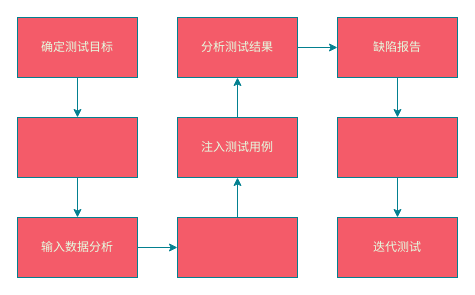
Some shapes in this 475 by 295 pixel diagram are drawn without their labels. The centre of each missing label's shape, as x and y in pixels:
"修复漏洞" goes at (397,147).
"收集输入数据" goes at (77,147).
"输入数据生成" goes at (237,247).
